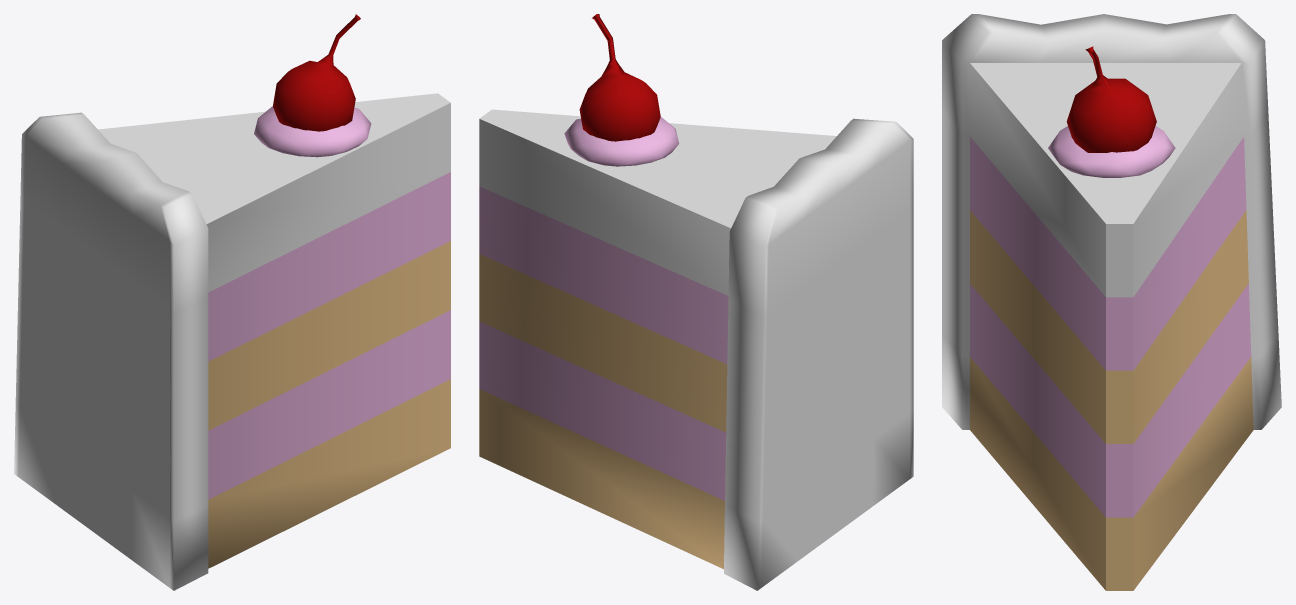
Rendered from Collectible_Cake.fbx.
The picture shows the model from 3 angles, left to right: view 1: azimuth 30°, elevation 25°; view 2: azimuth 150°, elevation 25°; view 3: azimuth 270°, elevation 25°; orthographic projection. The views are drawn at different scales.
Parts seen in each view (by area): view 1: Cube; view 2: Cube; view 3: Cube.
Boxes of the visible parts, x1,y1,x2,y2 form: Cube: (14, 14, 450, 590); Cube: (479, 14, 913, 590); Cube: (942, 14, 1281, 590).
Size of the model in its own units: 114 by 142 by 88.92.
